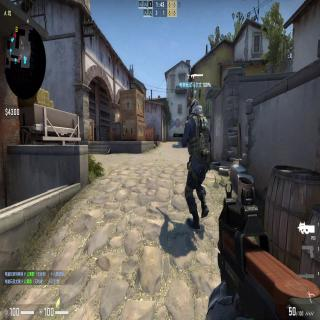CT-Body: (181, 99, 212, 229)
CT-Head: (188, 99, 200, 114)
